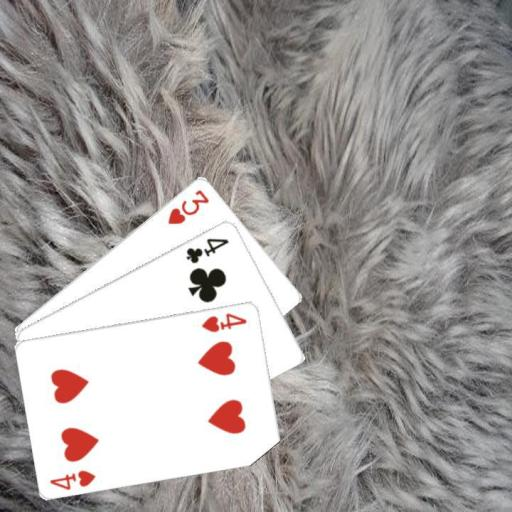3H: (164, 186, 211, 226)
4C: (183, 234, 230, 264)
4H: (47, 467, 97, 491), (199, 310, 248, 334)
